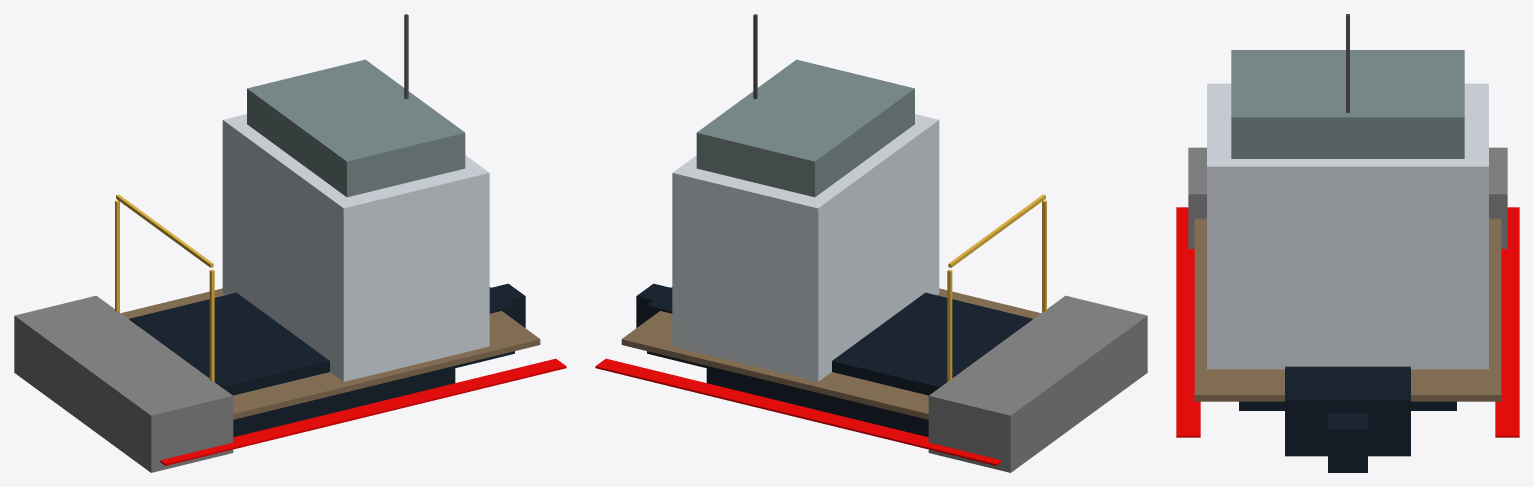
File: ahts-tug.glb
The picture shows the model from 3 angles, left to right: view 1: azimuth 30°, elevation 25°; view 2: azimuth 150°, elevation 25°; view 3: azimuth 270°, elevation 25°; orthographic projection. The views are drawn at different scales.
Size of the model in its own units: 9.53 by 7.11 by 5.6.
